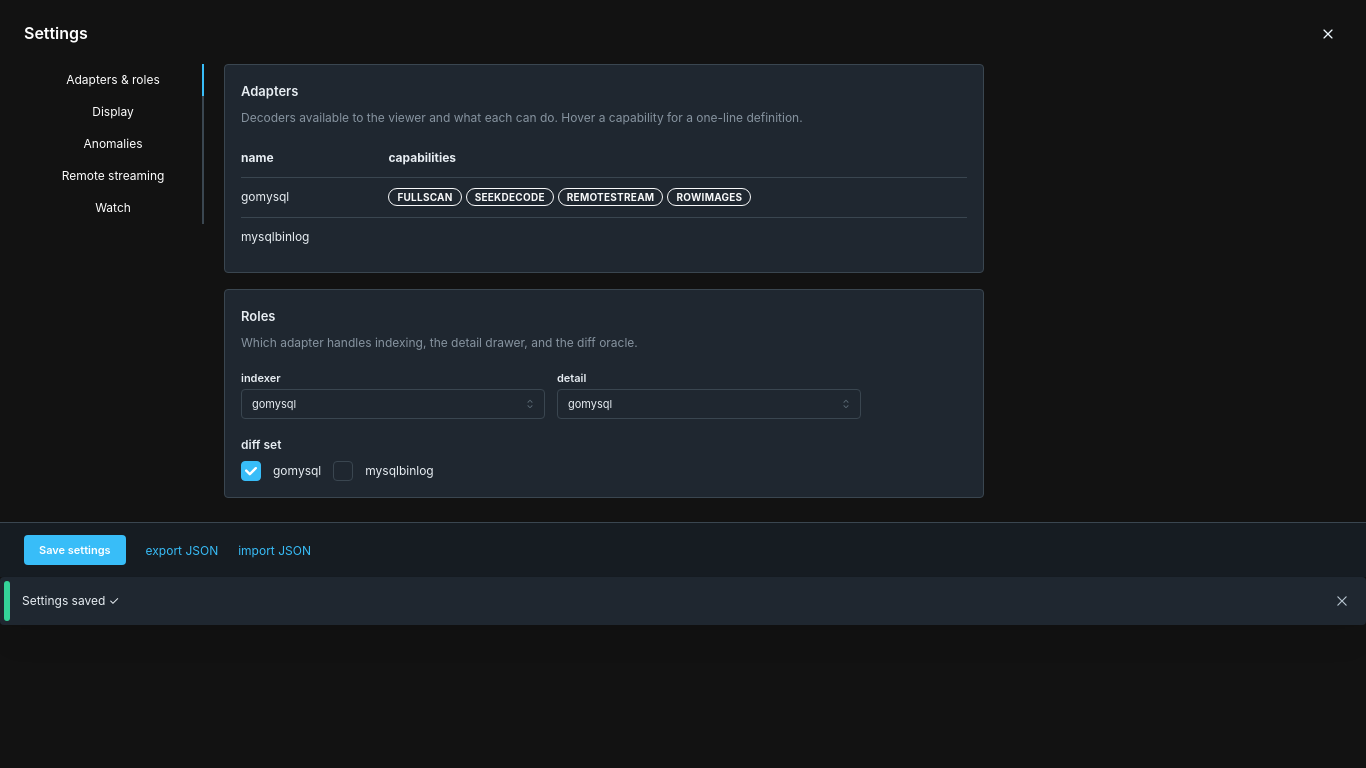
Test: SettingsView › switches to Anomalies tab and shows threshold text inputs
The width and height of the screenshot is (1366, 768).
Click the tab "Anomalies": {"x": 114, "y": 144} 24,128 -> 204,160
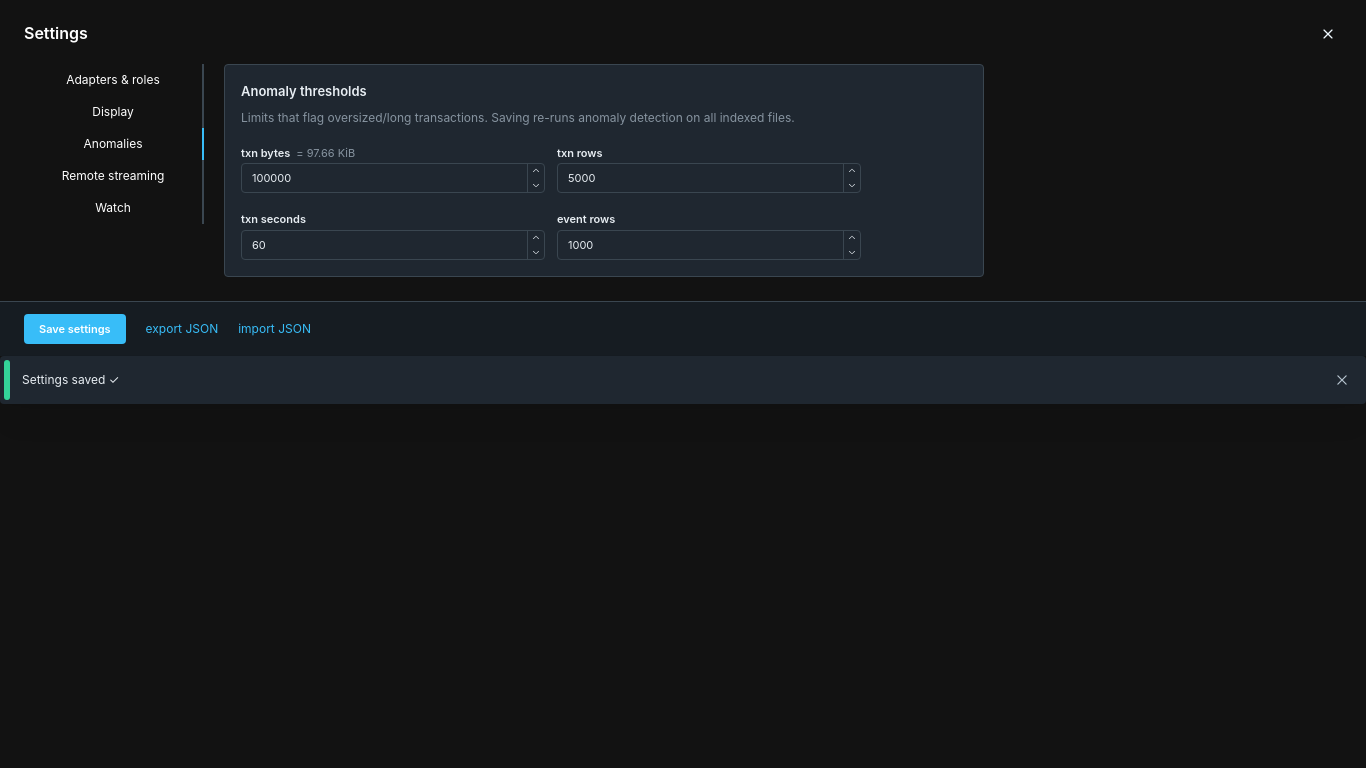
Check: the field labelled "txn bytes= 97.66 KiB" is shown, box 241,163 -> 545,193
